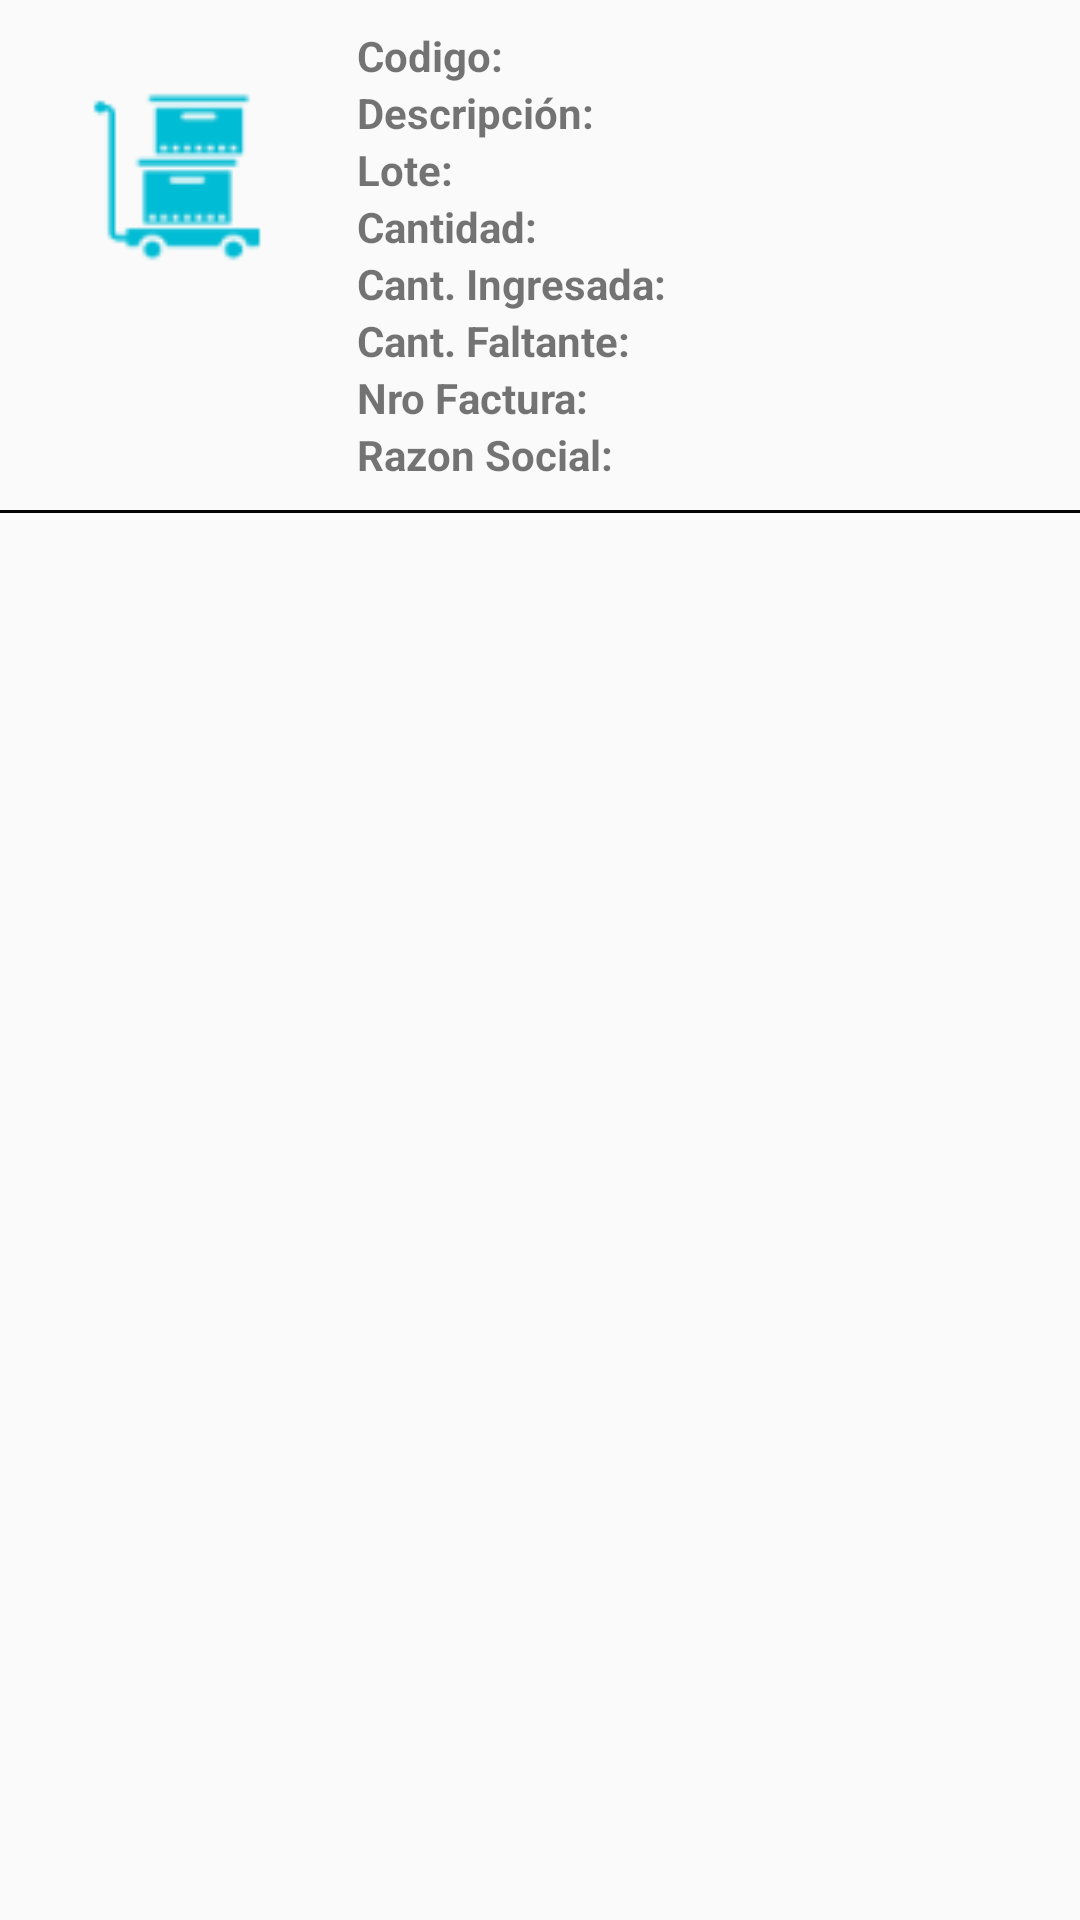

Named icons in this screenshot (1080px×1920px) and their centers, [x,y]:
articulos: [177,176]
